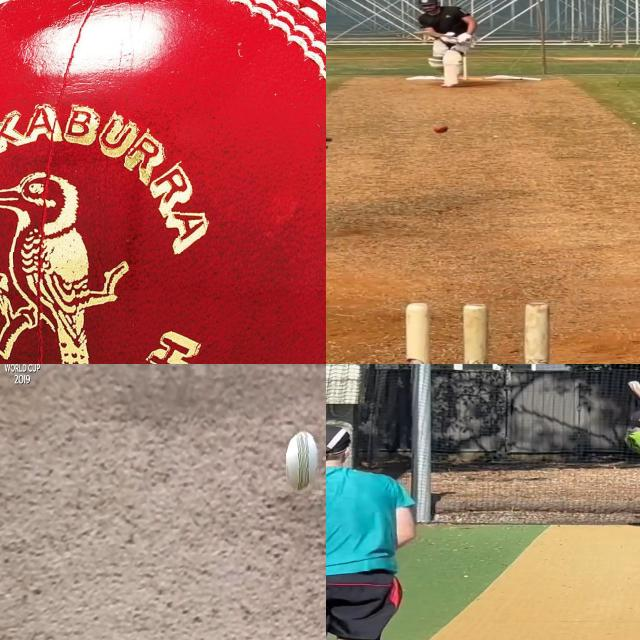Cricket ball: (0, 0, 326, 364), (286, 430, 322, 494), (432, 124, 449, 134)
Stumps: (405, 301, 559, 364)
